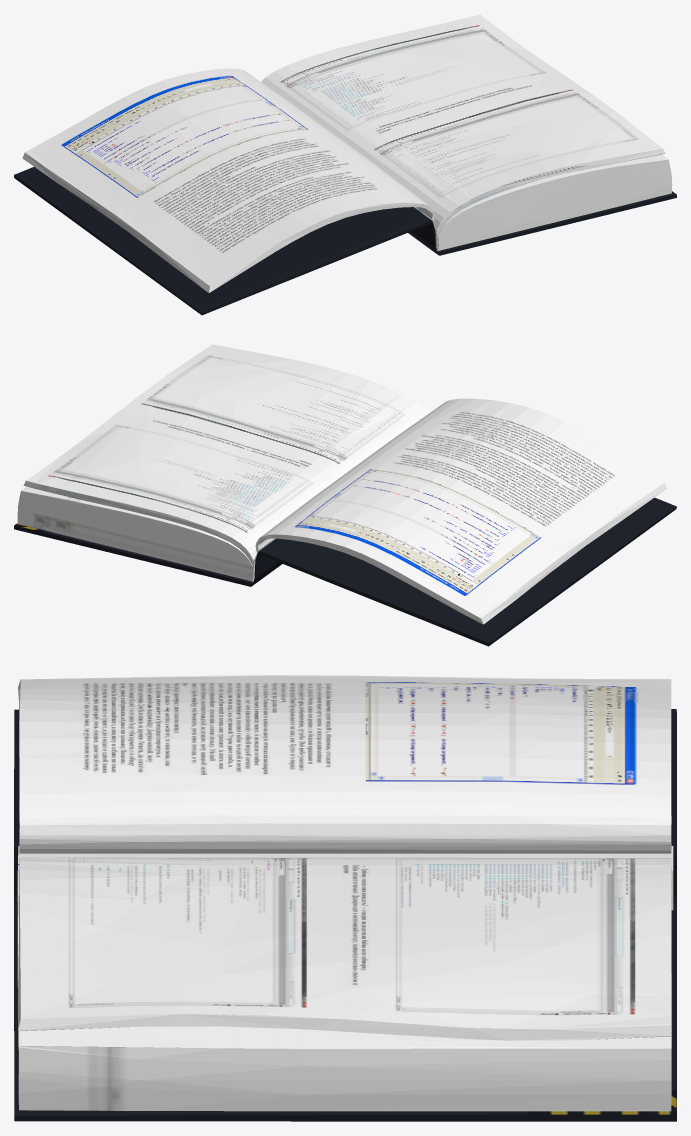
Rendered from Book 1.FBX.
The picture shows the model from 3 angles, top to bottom: view 1: azimuth 30°, elevation 25°; view 2: azimuth 150°, elevation 25°; view 3: azimuth 270°, elevation 25°; orthographic projection. The views are drawn at different scales.
Parts seen in each view (by area): view 1: Book 1; view 2: Book 1; view 3: Book 1.
Boxes of the visible parts, left/top/right/bottom form: Book 1: left=14, top=14, right=676, bottom=315; Book 1: left=14, top=344, right=676, bottom=646; Book 1: left=14, top=675, right=676, bottom=1121.
Bounding box in the file's own units: 10.85 × 7.42 × 1.47.
Materials: 5 (5 with a texture image).
